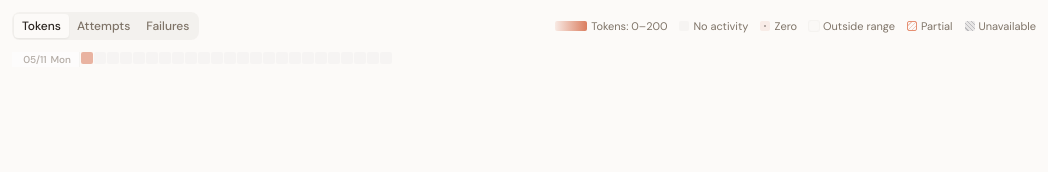
Scenario: Heatmap › keeps an active all-zero failure grid and explains the zero state
The width and height of the screenshot is (1048, 172).
Step 1. Click the button "Failures" → point(168, 26), box [138, 14, 197, 38]
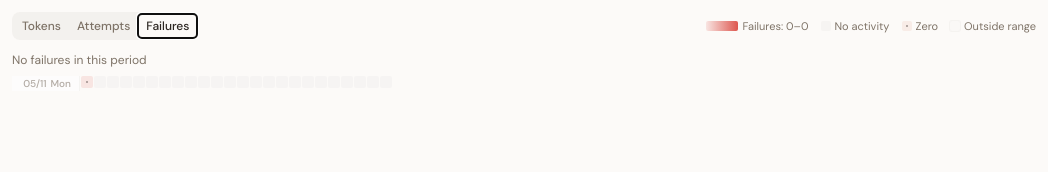
Expected: the message reads "No failures in this period", [12, 52, 147, 68]
